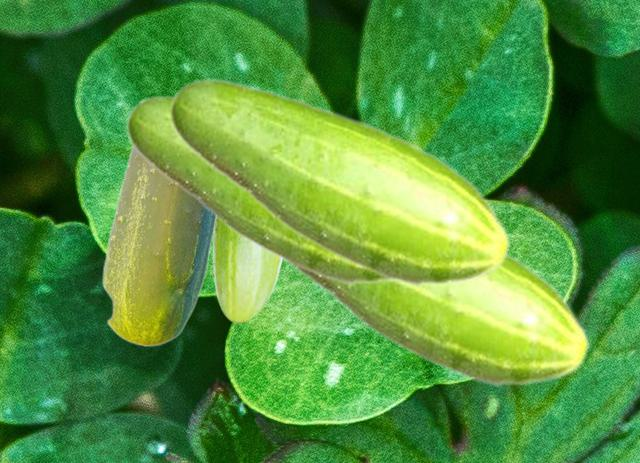cucumber: (168, 77, 511, 288), (125, 94, 399, 286), (278, 252, 590, 388), (101, 146, 217, 346), (212, 221, 282, 322)
